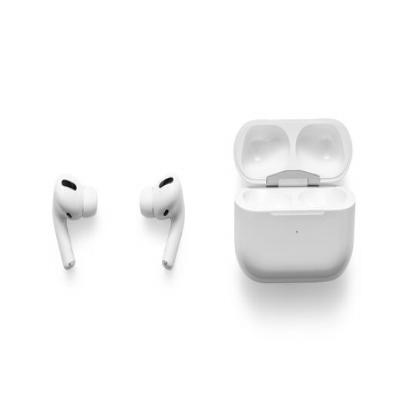Airpods: (47, 175, 99, 281), (138, 176, 187, 276)
